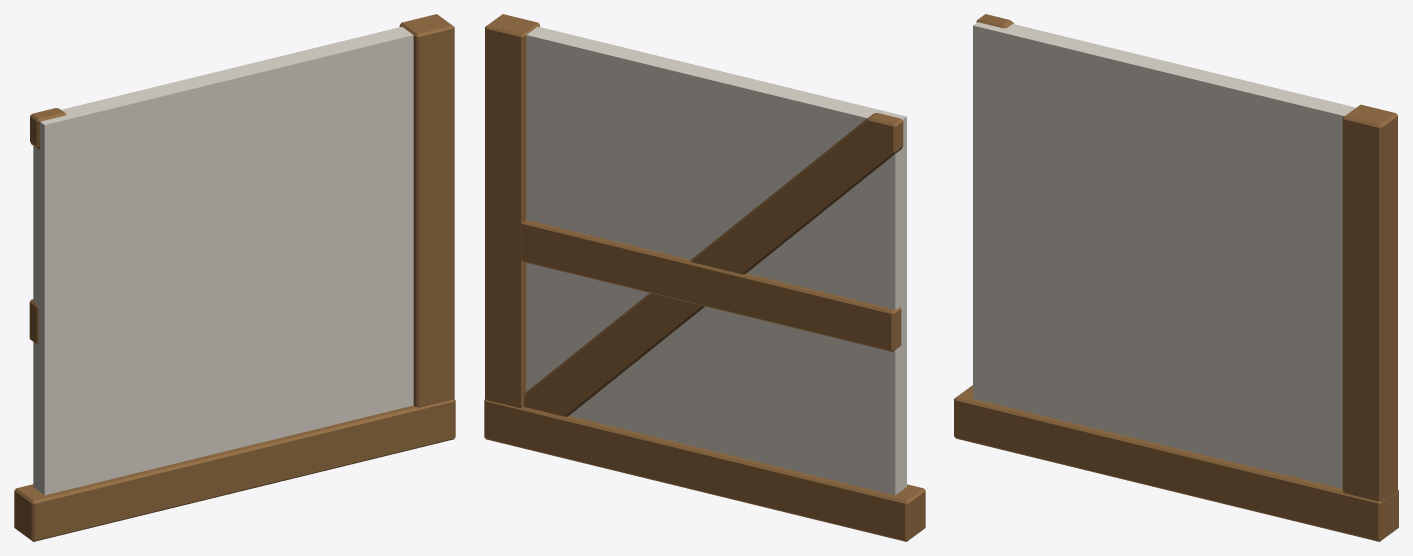
The model's file is WallHDiagR.fbx.
3 renders of one model, left to right at view 1: azimuth 30°, elevation 25°; view 2: azimuth 150°, elevation 25°; view 3: azimuth 330°, elevation 25°, orthographic.
Visible parts, largest first — view 1: WallHDiagL, Cube.091, Cube.087, Cube.090; view 2: WallHDiagL, Cube.091, Cube.090, Cube.089, Cube.087; view 3: WallHDiagL, Cube.087, Cube.091.
Part boxes in pixels (x1=…): WallHDiagL: x1=33, y1=26, x2=413, y2=495; Cube.091: x1=14, y1=399, x2=455, y2=541; Cube.087: x1=399, y1=14, x2=454, y2=407; Cube.090: x1=30, y1=108, x2=66, y2=149; WallHDiagL: x1=526, y1=26, x2=906, y2=495; Cube.091: x1=484, y1=399, x2=925, y2=541; Cube.090: x1=524, y1=113, x2=903, y2=416; Cube.089: x1=521, y1=219, x2=901, y2=351; Cube.087: x1=485, y1=14, x2=539, y2=408; WallHDiagL: x1=973, y1=22, x2=1355, y2=488; Cube.087: x1=1342, y1=104, x2=1397, y2=502; Cube.091: x1=954, y1=385, x2=1398, y2=541.
Bounding box in the file's own units: 216 × 202 × 17.27.
